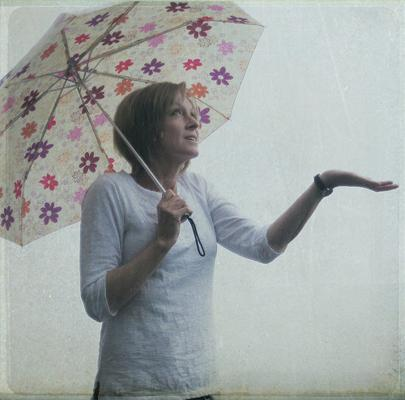person: (79, 82, 398, 400)
